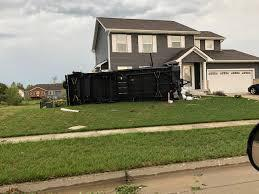affected: (91, 12, 259, 98)
